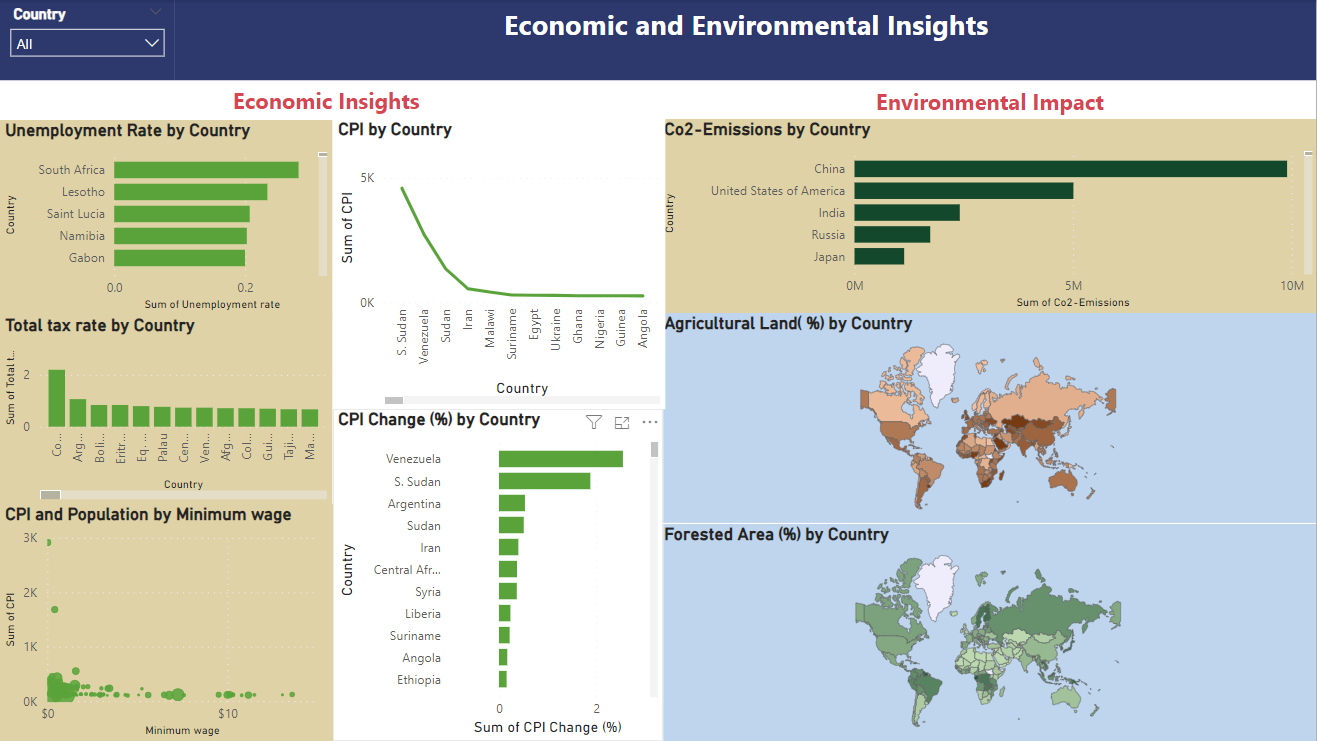

Layout of this report page (visuals, bound fields, positions):
{"tool":"powerbi","page":{"name":"Economic and Environmental Dashboards","canvas":[1280,720],"ordinal":1},"visuals":[{"type":"textbox","box":[0,77.8,640,37.8],"z":0},{"type":"clusteredColumnChart","title":"Total tax rate by Country","fields":{"Category":["world-data-2023.Country"],"Y":["Sum(world-data-2023.Total tax rate)"]},"box":[0,305.9,322.8,183.5],"z":1000},{"type":"textbox","box":[170.2,0,1110.1,78],"z":2000},{"type":"scatterChart","title":"CPI and Population by Minimum wage","fields":{"Y":["Sum(world-data-2023.CPI)"],"X":["world-data-2023.Minimum wage"],"Size":["Sum(world-data-2023.Population)"]},"box":[0,489.5,323.6,230.5],"z":3000},{"type":"textbox","box":[644.4,78.9,635.6,38.9],"z":4000},{"type":"clusteredBarChart","title":"Co2-Emissions by Country","fields":{"Category":["world-data-2023.Country"],"Y":["Sum(world-data-2023.Co2-Emissions)"]},"box":[640,115.6,640,188.9],"z":5000},{"type":"shapeMap","title":"Agricultural Land( %) by Country","fields":{"Category":["world-data-2023.Country"],"Value":["Sum(world-data-2023.Agricultural Land( %))"]},"box":[640,304.4,640,204.4],"z":6000},{"type":"barChart","title":"Unemployment Rate by Country","fields":{"Category":["world-data-2023.Country"],"Y":["Sum(world-data-2023.Unemployment rate)"]},"box":[0,116.2,322.8,189.8],"z":7000},{"type":"slicer","fields":{"Values":["world-data-2023.Country"]},"box":[0,0,170.2,78],"z":8000},{"type":"shapeMap","title":"Forested Area (%) by Country","fields":{"Value":["Sum(world-data-2023.Forested Area (%))"],"Category":["world-data-2023.Country"]},"box":[640,508.9,640,211.1],"z":9000},{"type":"lineChart","title":"CPI by Country","fields":{"Category":["world-data-2023.Country"],"Y":["Sum(world-data-2023.CPI)"]},"box":[323.3,115.6,323.3,282.2],"z":10000},{"type":"barChart","title":"CPI Change (%) by Country","fields":{"Category":["world-data-2023.Country"],"Y":["Sum(world-data-2023.CPI Change (%))"]},"box":[323.3,397.8,321.1,322.2],"z":11000}]}

Visuals, with their boxes in screenshot pixels (x1, y1, x2, y2), scaled from the page's 1280x720 canvas onto the 1317x741 screenshot:
textbox: (x1=0, y1=80, x2=658, y2=119)
"Total tax rate by Country" clusteredColumnChart: (x1=0, y1=315, x2=332, y2=504)
textbox: (x1=175, y1=0, x2=1316, y2=80)
"CPI and Population by Minimum wage" scatterChart: (x1=0, y1=504, x2=333, y2=740)
textbox: (x1=663, y1=81, x2=1316, y2=121)
"Co2-Emissions by Country" clusteredBarChart: (x1=658, y1=119, x2=1316, y2=313)
"Agricultural Land( %) by Country" shapeMap: (x1=658, y1=313, x2=1316, y2=524)
"Unemployment Rate by Country" barChart: (x1=0, y1=120, x2=332, y2=315)
slicer - world-data-2023.Country: (x1=0, y1=0, x2=175, y2=80)
"Forested Area (%) by Country" shapeMap: (x1=658, y1=524, x2=1316, y2=740)
"CPI by Country" lineChart: (x1=333, y1=119, x2=665, y2=409)
"CPI Change (%) by Country" barChart: (x1=333, y1=409, x2=663, y2=740)
